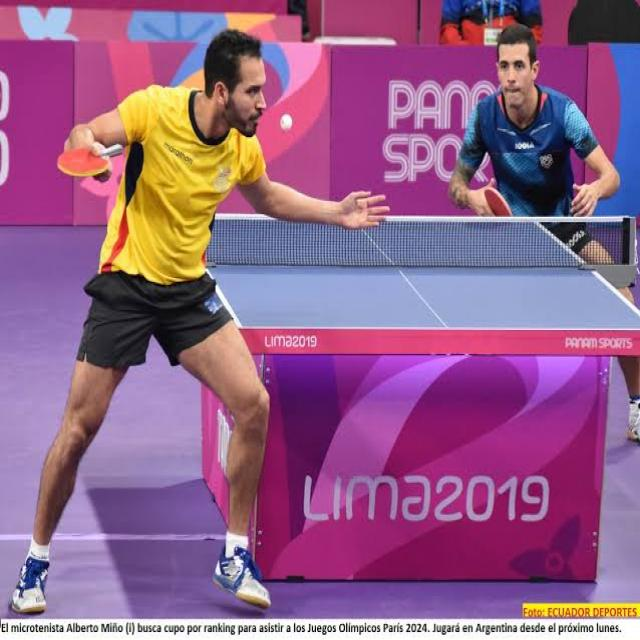TT Net: (149, 210, 638, 277)
TT Racket: (46, 137, 119, 185), (478, 181, 518, 225)
TT Table: (175, 212, 639, 332)
